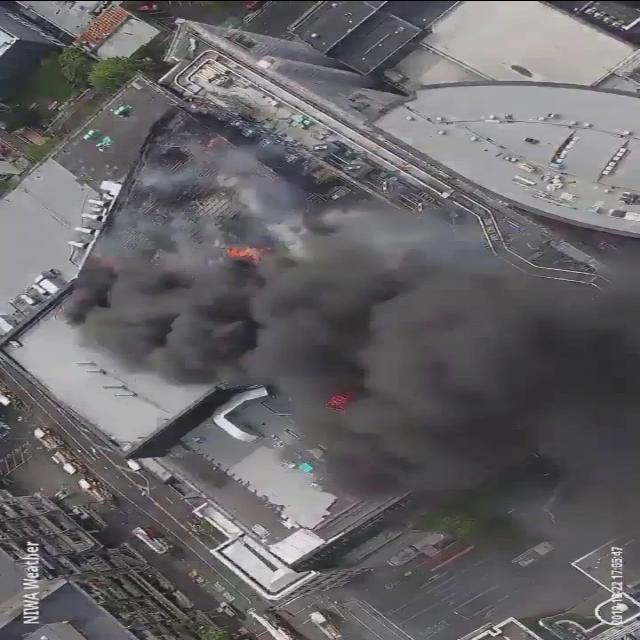Fire: (228, 244, 266, 261)
